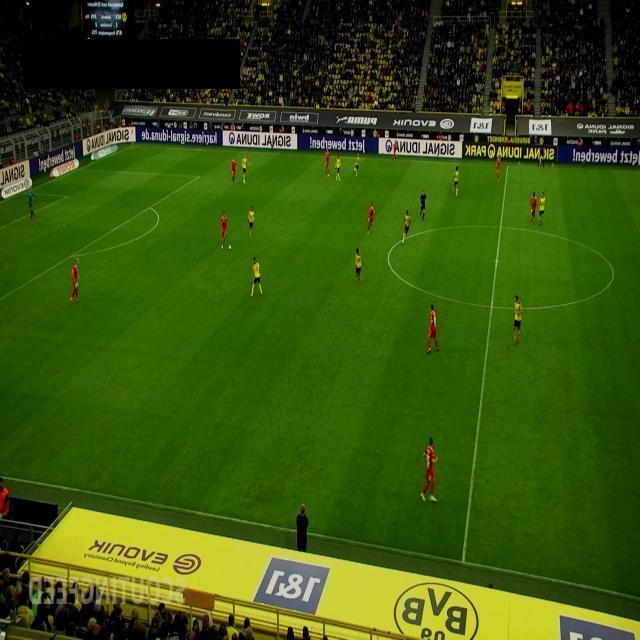ball: (228, 243, 232, 250)
team1: (419, 437, 438, 503), (426, 304, 439, 354), (70, 258, 80, 304), (220, 210, 228, 250), (530, 192, 538, 226), (390, 140, 398, 164), (368, 202, 374, 234), (324, 148, 330, 178), (495, 154, 501, 182), (231, 156, 237, 184)
team2: (512, 295, 524, 345), (249, 256, 263, 298), (402, 210, 412, 244), (241, 154, 251, 184), (354, 248, 362, 284), (538, 191, 546, 226), (451, 166, 459, 197), (248, 206, 255, 238), (335, 153, 341, 181), (355, 152, 360, 176)
